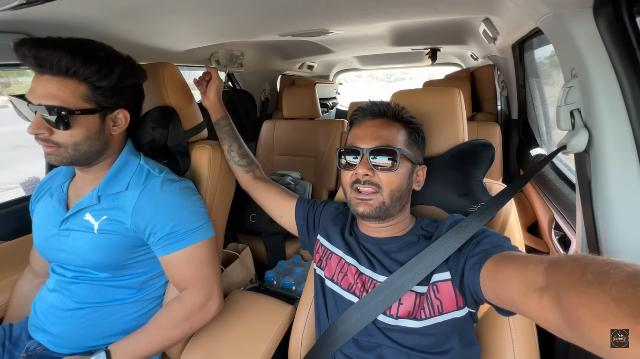no seatbelt: (30, 160, 238, 359)
seatbelt: (300, 142, 568, 358)
